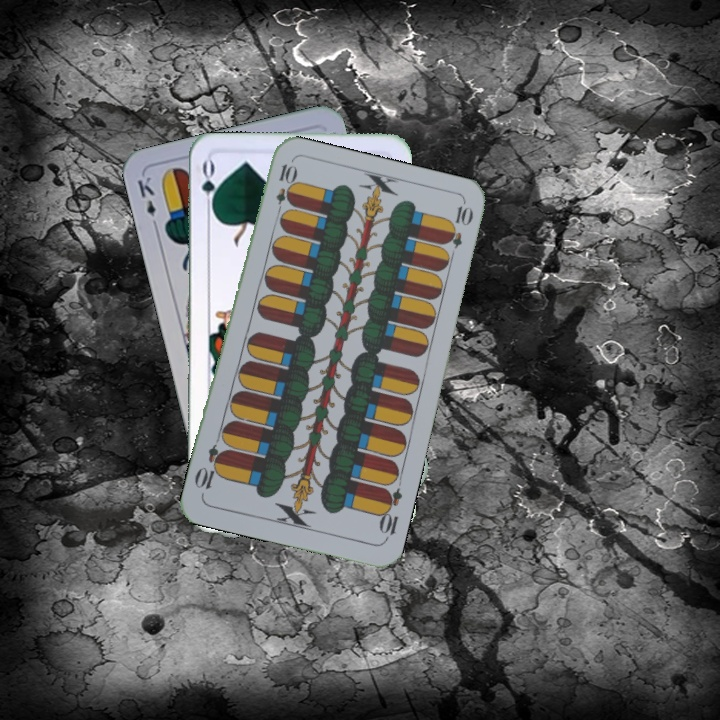E10: (375, 484, 405, 543), (271, 160, 297, 219)
EK: (133, 172, 161, 232)
GO: (198, 157, 219, 217)
